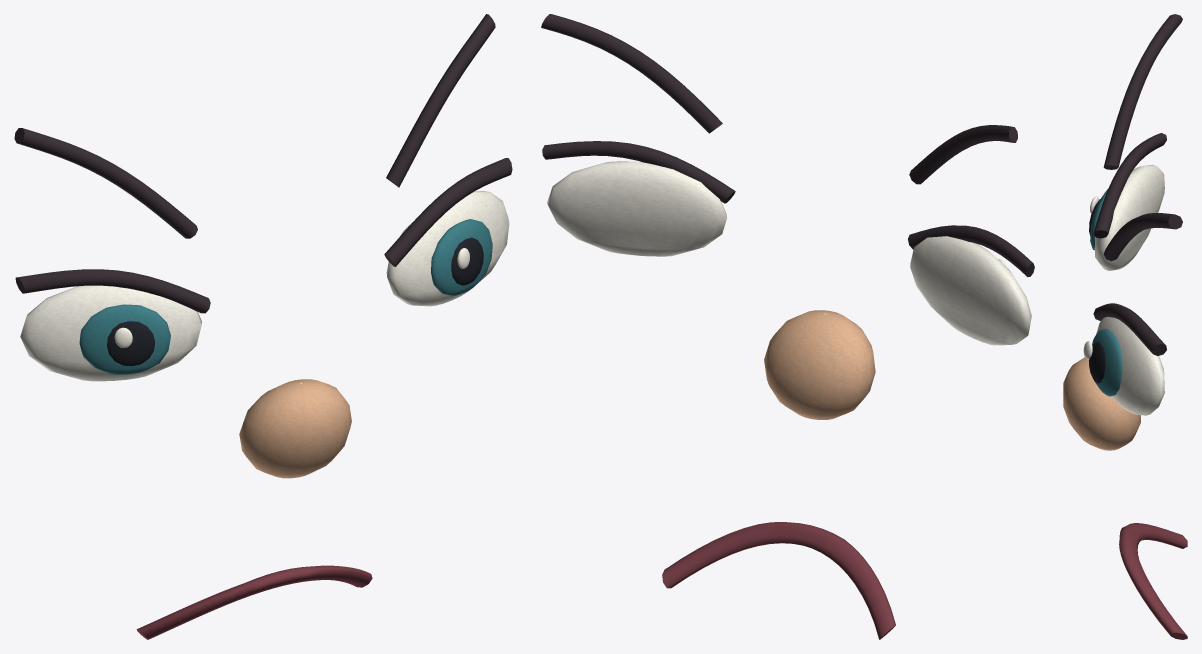
Rendered from face_serious.gltf.
3 renders of one model, left to right at view 1: azimuth 30°, elevation 25°; view 2: azimuth 150°, elevation 25°; view 3: azimuth 270°, elevation 25°, orthographic. The views are drawn at different scales.
Parts seen in each view (by area): view 1: Steady Focus; view 2: Steady Focus; view 3: Steady Focus.
Part boxes in pixels (x1,y1,x2,y2): Steady Focus: [14, 14, 512, 639]; Steady Focus: [541, 14, 1034, 639]; Steady Focus: [1063, 14, 1187, 639].
Bounding box in the file's own units: 0.2654 × 0.2817 × 0.0662.
Materials: 6 (6 with a texture image).
